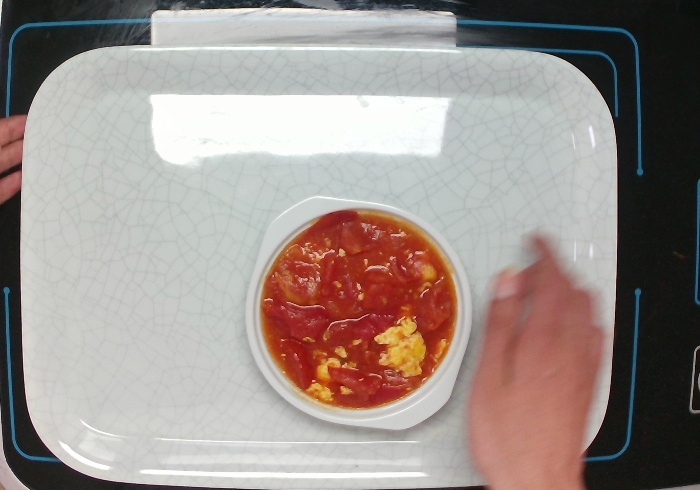JYsf-Shuang_Er_Pan: (239, 190, 477, 434)
